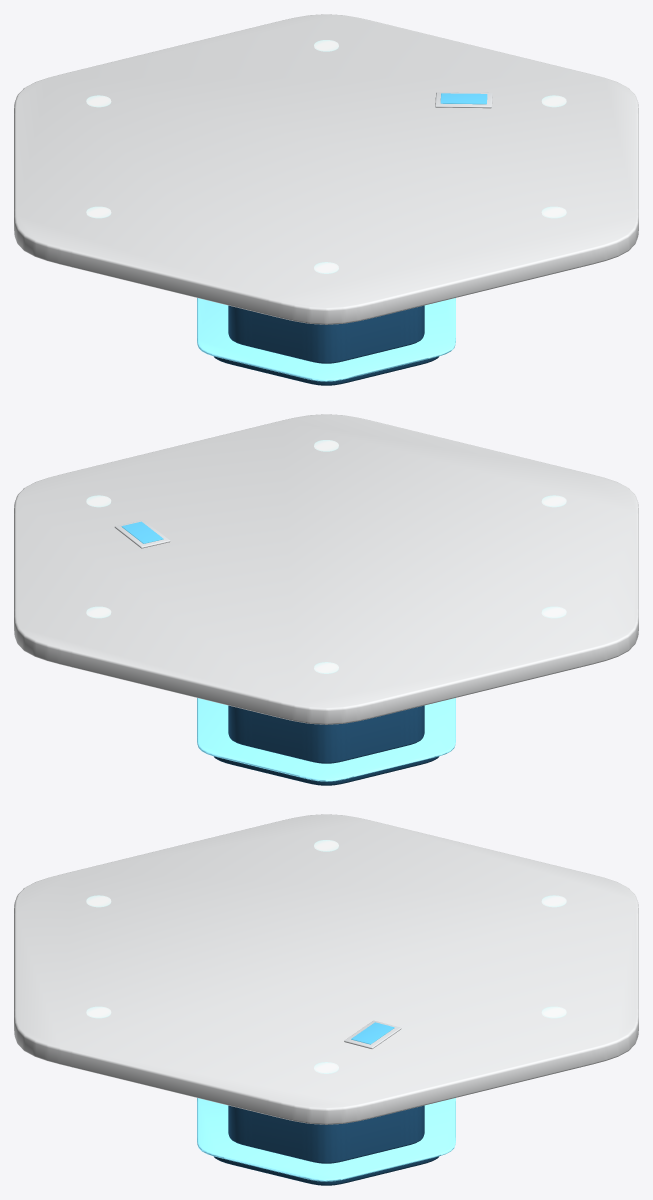
Rendered from hex-table.glb.
3 renders of one model, top to bottom at view 1: azimuth 30°, elevation 25°; view 2: azimuth 150°, elevation 25°; view 3: azimuth 270°, elevation 25°, orthographic.
Parts seen in each view (by area): view 1: Top, Pedestal, GlowTrim, Plinth, PanelScreen; view 2: Top, Pedestal, GlowTrim, Plinth; view 3: Top, Pedestal, GlowTrim, Plinth.
Part boxes in pixels (left/top/right/bottom): Top: left=14, top=14, right=638, bottom=324; Pedestal: left=228, top=305, right=424, bottom=363; GlowTrim: left=197, top=298, right=455, bottom=381; Plinth: left=214, top=356, right=438, bottom=385; PanelScreen: left=440, top=93, right=487, bottom=104; Top: left=14, top=414, right=638, bottom=724; Pedestal: left=228, top=705, right=424, bottom=763; GlowTrim: left=197, top=698, right=455, bottom=781; Plinth: left=214, top=756, right=438, bottom=785; Top: left=14, top=814, right=638, bottom=1124; Pedestal: left=228, top=1105, right=424, bottom=1163; GlowTrim: left=197, top=1098, right=455, bottom=1181; Plinth: left=214, top=1156, right=438, bottom=1185.
Size of the model in its own units: 2.71 by 0.7605 by 2.42.
